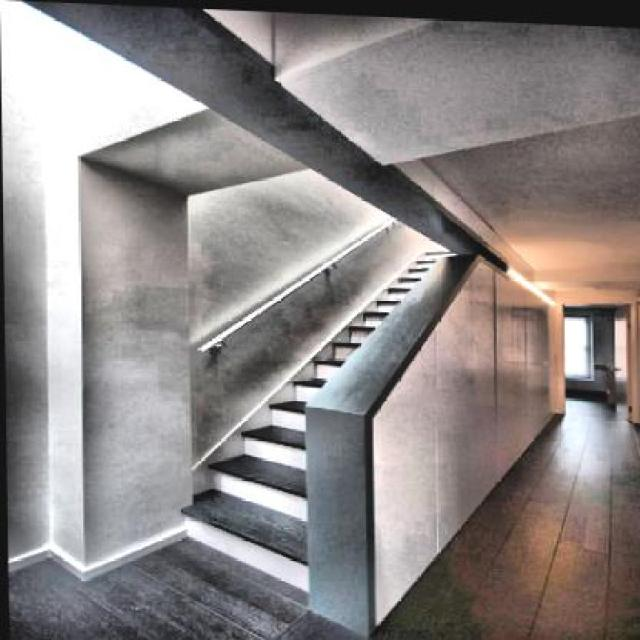stair: (178, 226, 456, 637)
